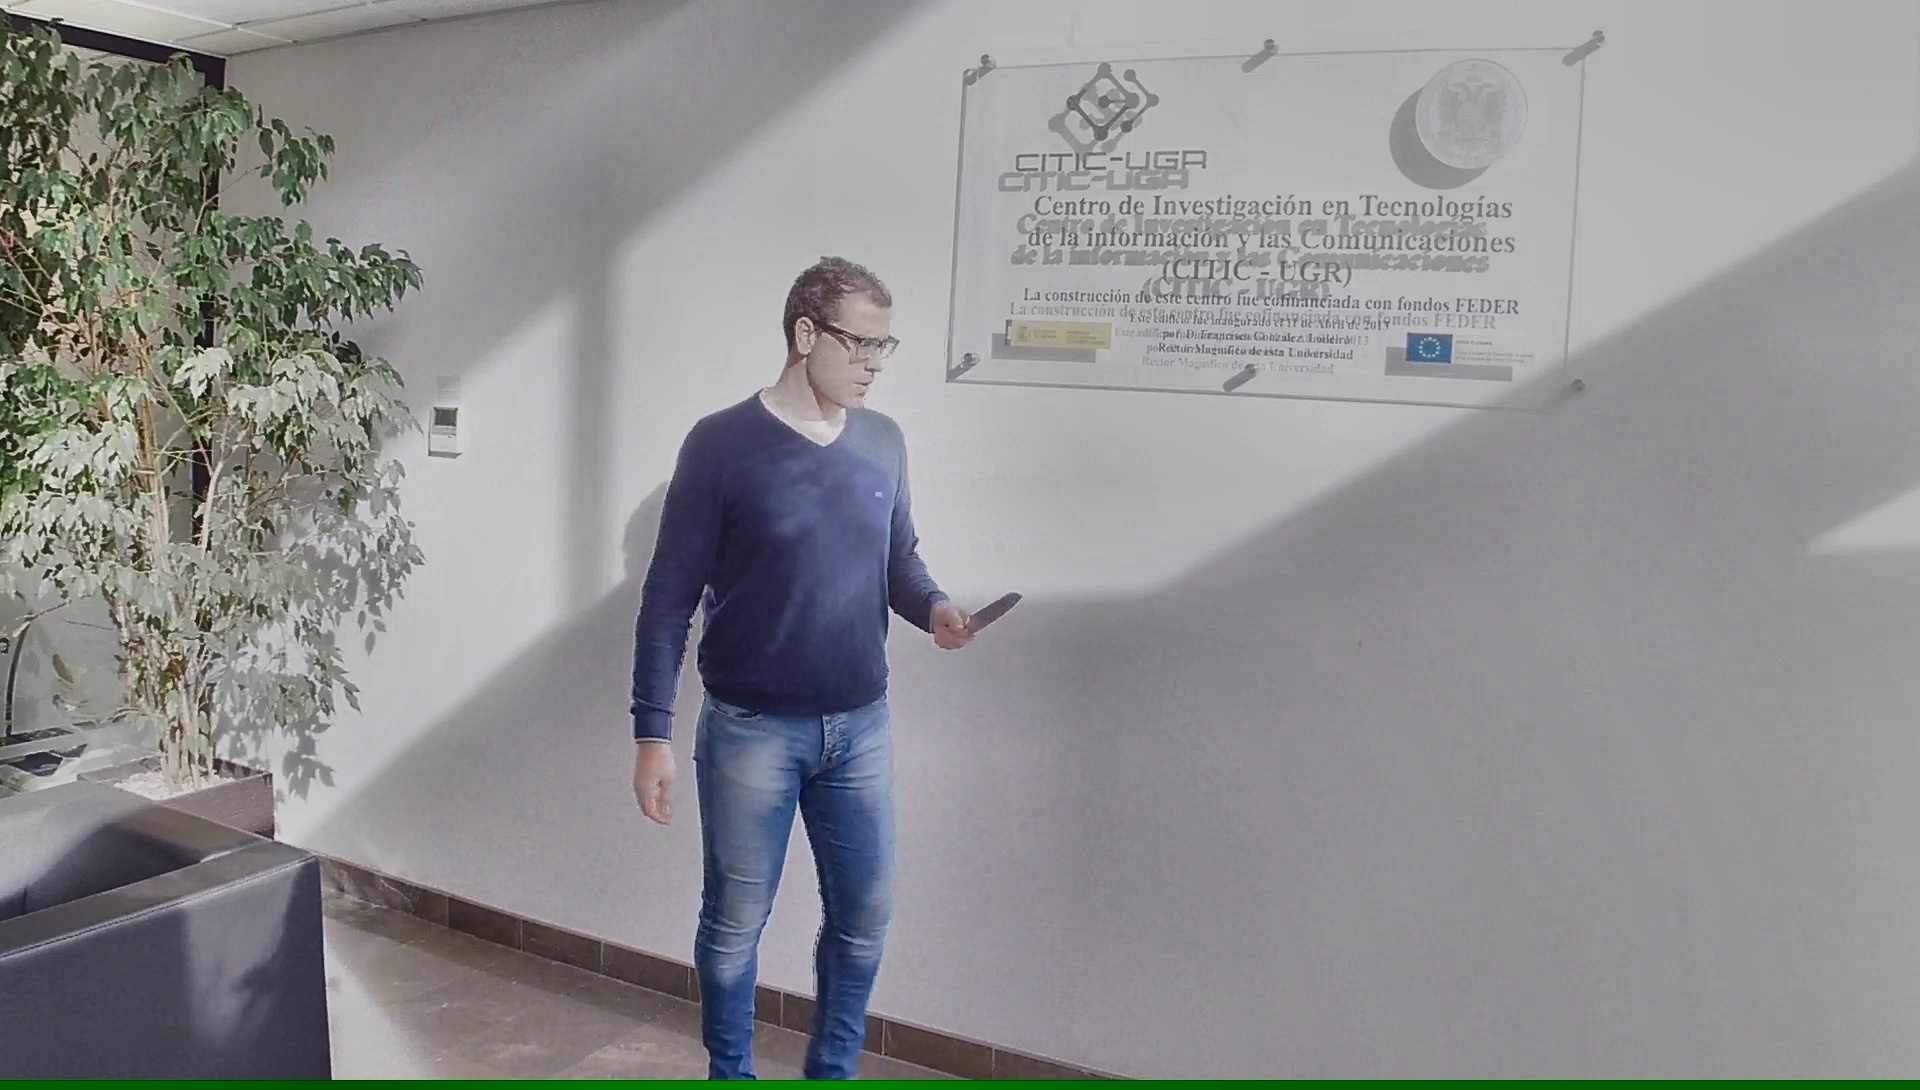knife: (947, 587, 1035, 645)
